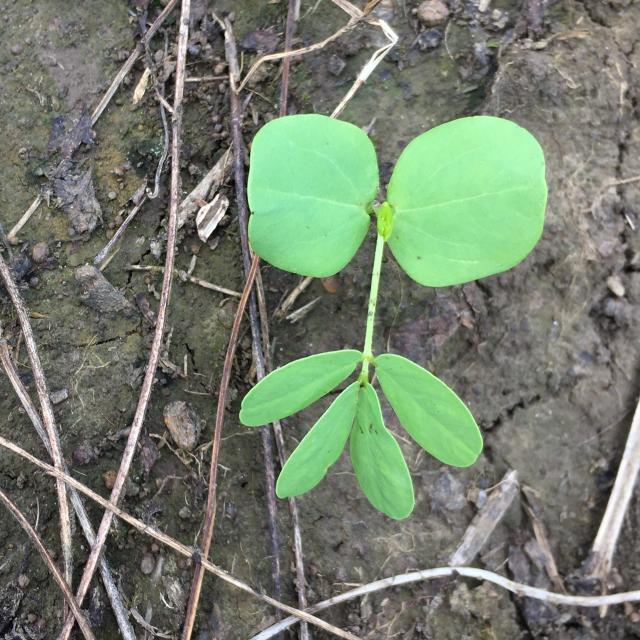Sicklepod: (239, 114, 548, 521)
